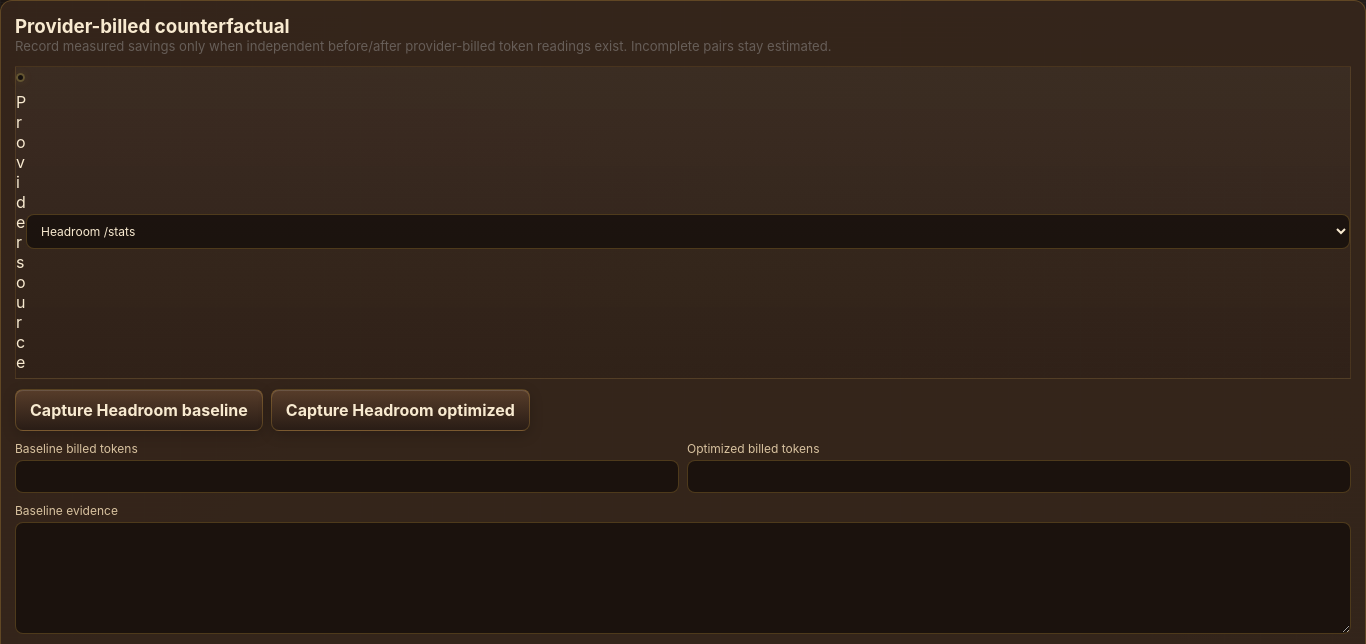
it: ProviderBilledCounterfactualCard › captures both provider readings and records the measured pair
Click the button "Capture Headroom baseline" at (139, 410), box 15,389 -> 263,431
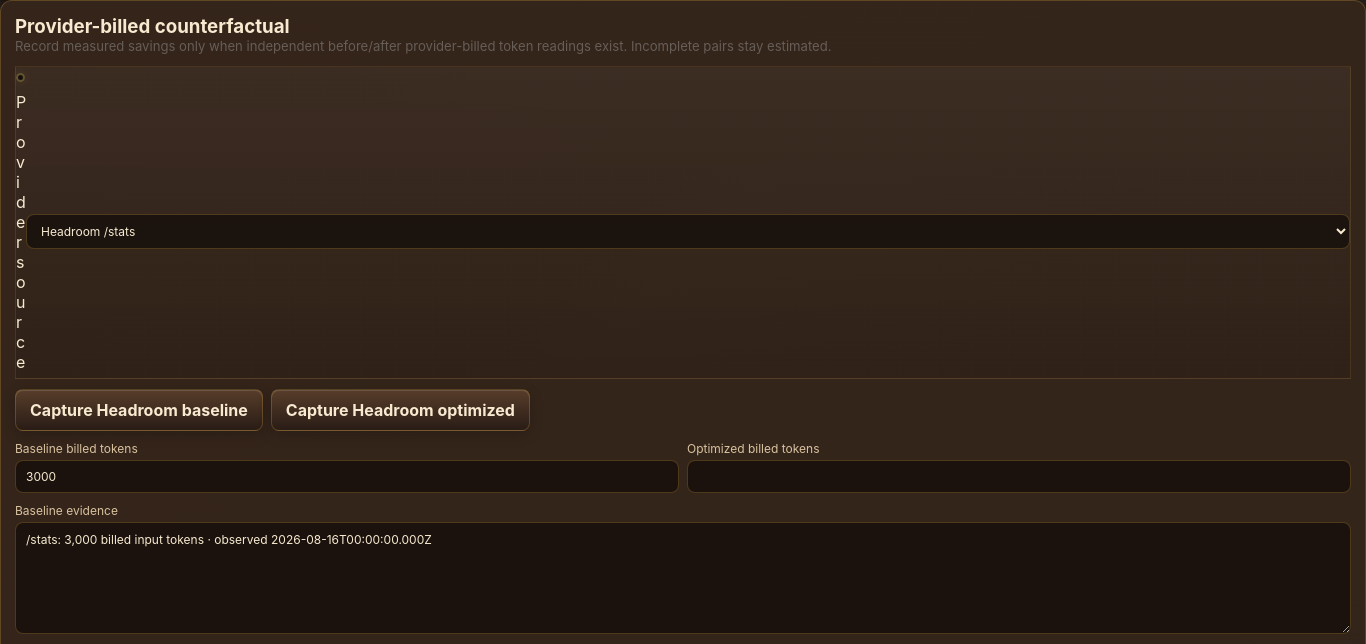
Check: the field labelled "Baseline billed tokens" holds "3000", box 15,460 -> 679,493
Click the button "Capture Headroom optimized" at (400, 410), box 271,389 -> 530,431
(page scrolled)
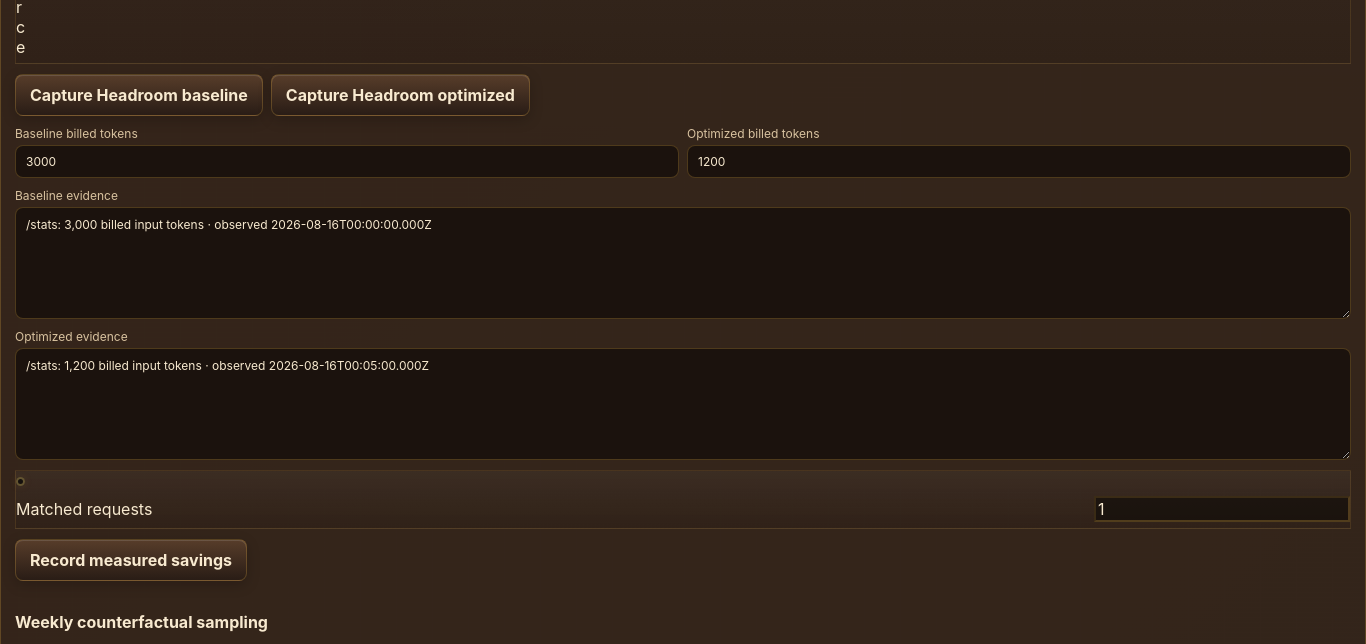
Check: the field labelled "Optimized billed tokens" holds "1200", box 687,145 -> 1351,178
Replace the text in the field named "Matched request count" with "2" at (1222, 509), box 1094,496 -> 1350,522
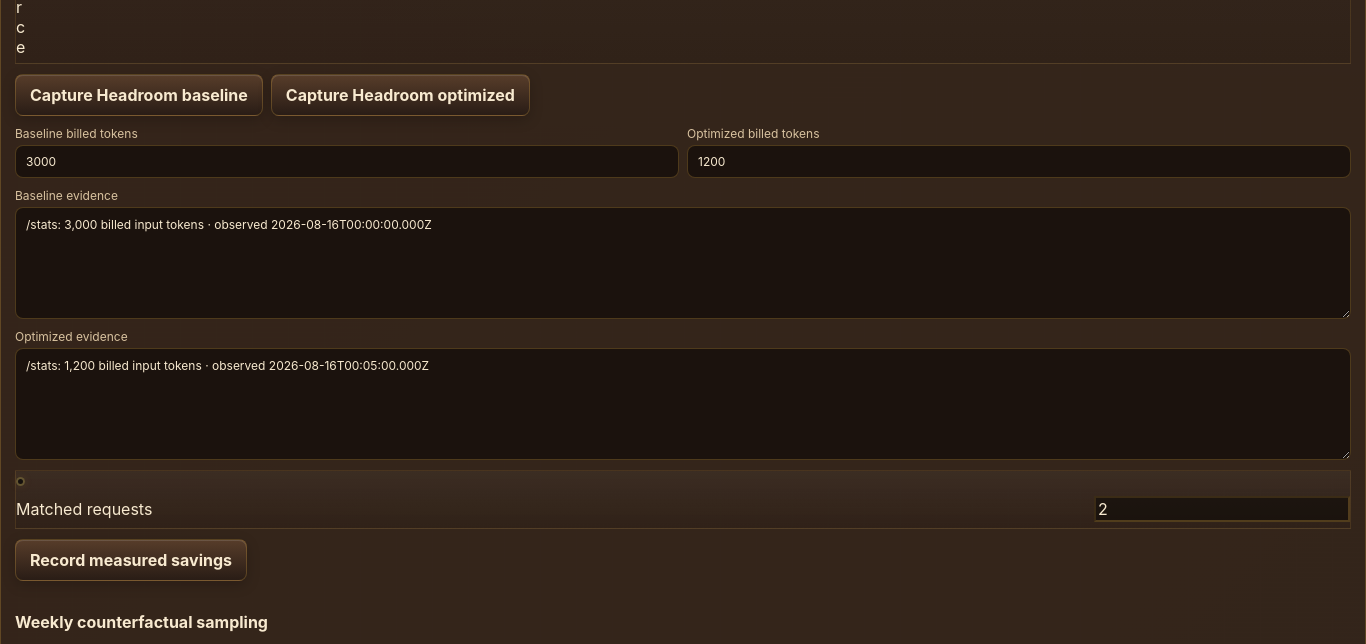
Click the button "Record measured savings" at (131, 560), box 15,539 -> 247,581
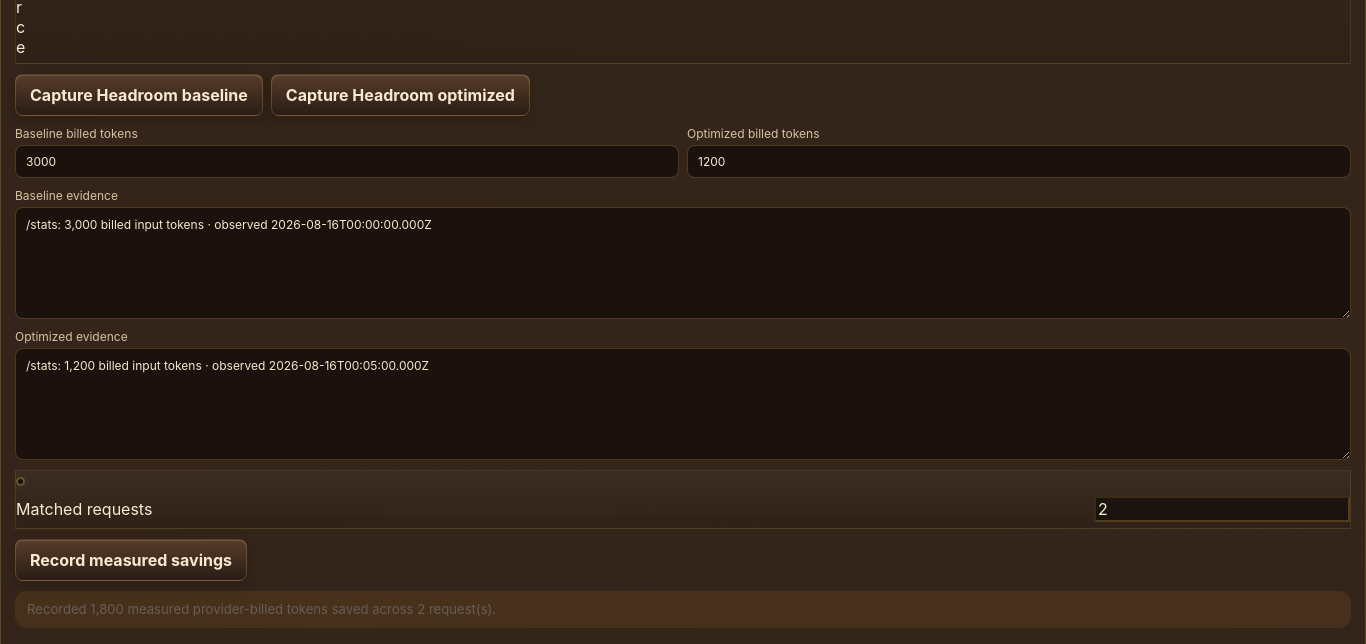
Check: the message shows "1,800", box 27,601 -> 496,617
